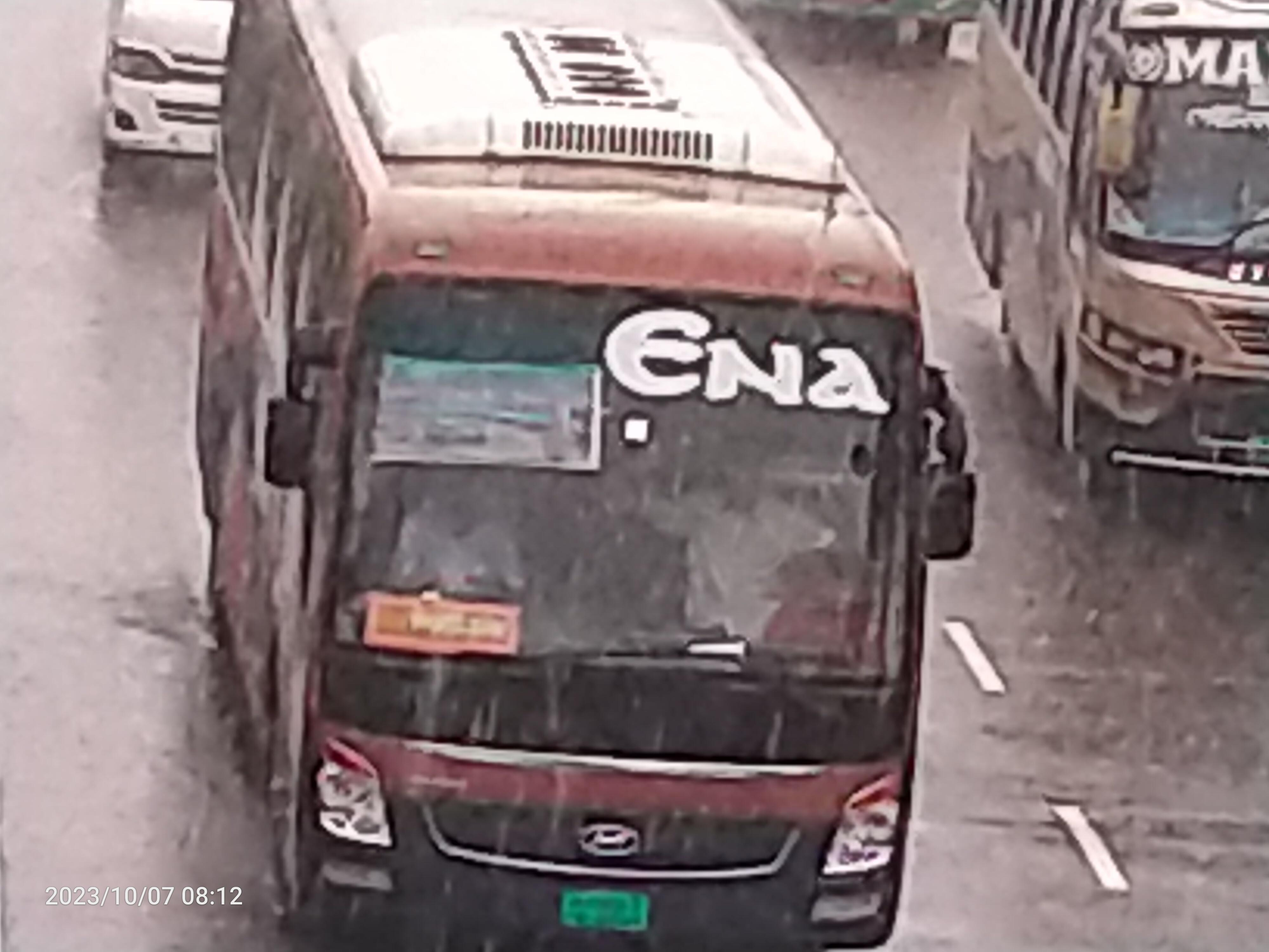Bus: (184, 0, 1020, 949), (935, 0, 1263, 491)
Car: (92, 4, 246, 181)
